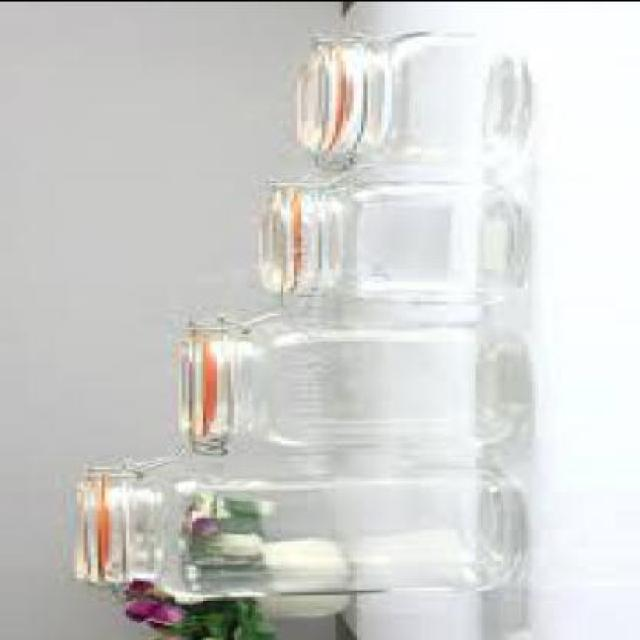BIODEGRADABLE: (140, 600, 268, 638), (192, 498, 258, 538), (148, 596, 182, 629), (123, 594, 154, 626), (119, 577, 150, 598), (185, 518, 213, 540)
GLASS: (78, 468, 520, 595), (178, 314, 522, 454), (294, 32, 531, 168), (256, 184, 522, 304)
